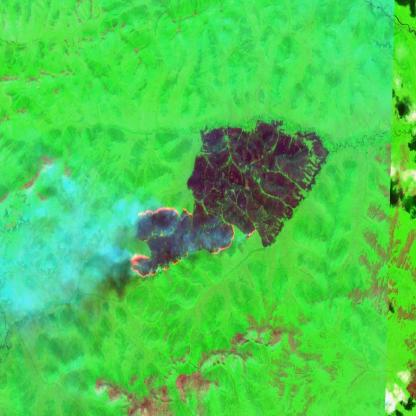fire: (124, 194, 236, 284)
